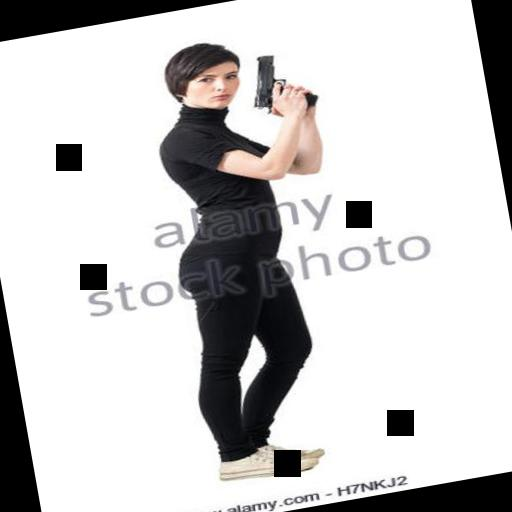Handgun: (239, 45, 320, 118)
